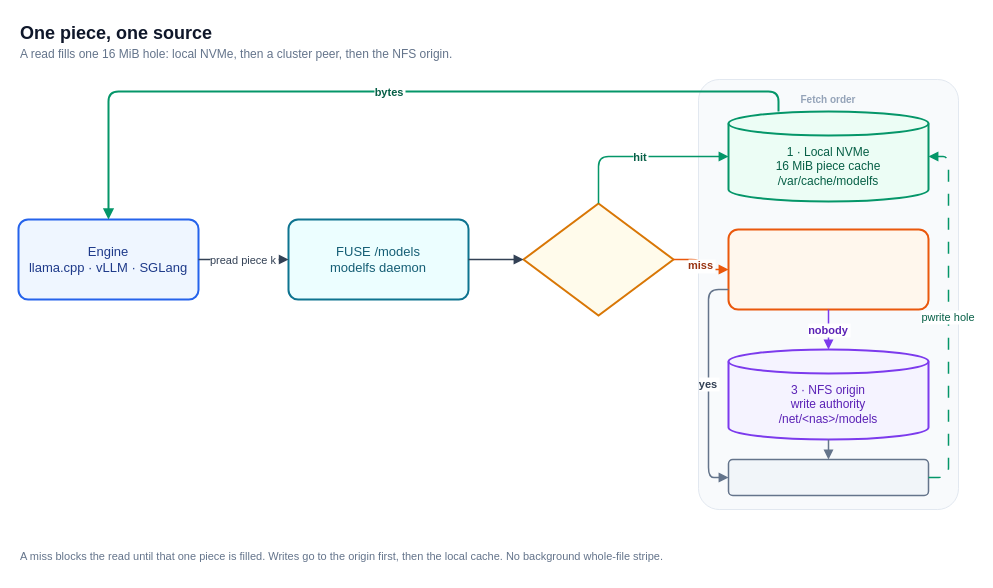
Image size: 993x588. Some labels were removed from this diagram. Here are the shapes that lost their labels. From the top down, the centre of each, then its label:
the point at 598,259: piece in local cache?
the point at 828,269: 2 · Cluster peer GET /have, then Range GET :18080 · sendfile · PSK
the point at 828,477: fill the hole, then serve bytes
